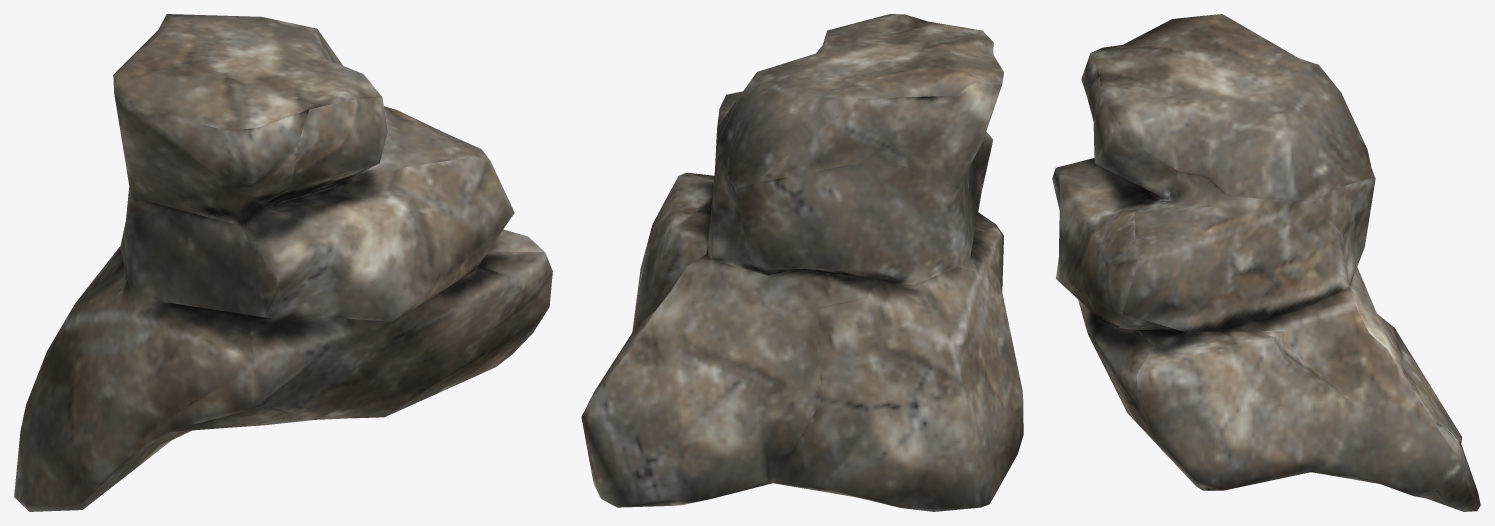
File: Roca2.FBX
The picture shows the model from 3 angles, left to right: view 1: azimuth 30°, elevation 25°; view 2: azimuth 150°, elevation 25°; view 3: azimuth 270°, elevation 25°; orthographic projection. The views are drawn at different scales.
Parts seen in each view (by area): view 1: realrock3 lod_2; view 2: realrock3 lod_2; view 3: realrock3 lod_2.
Boxes of the visible parts, <box> form: realrock3 lod_2: <box>14,14,552,511</box>; realrock3 lod_2: <box>581,14,1023,511</box>; realrock3 lod_2: <box>1052,14,1480,511</box>.
Bounding box in the file's own units: 219 × 206 × 206.
Materials: 1 (1 with a texture image).
